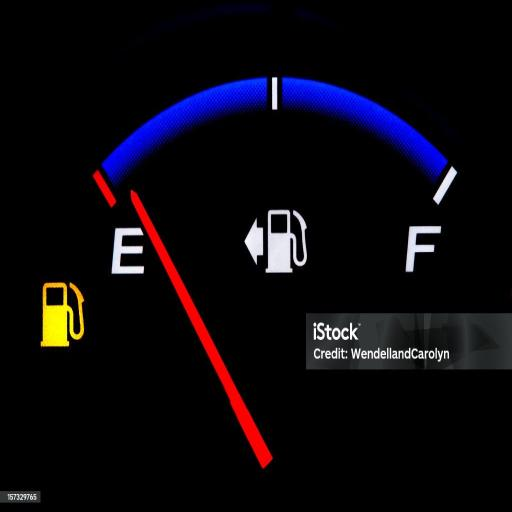empty: (108, 225, 148, 278)
fuel_icon: (38, 276, 87, 354), (262, 202, 310, 279)
full: (404, 221, 446, 276)
guage_area: (34, 72, 462, 491)
needle_center: (227, 416, 293, 486)
needle_tip: (126, 187, 147, 209)
